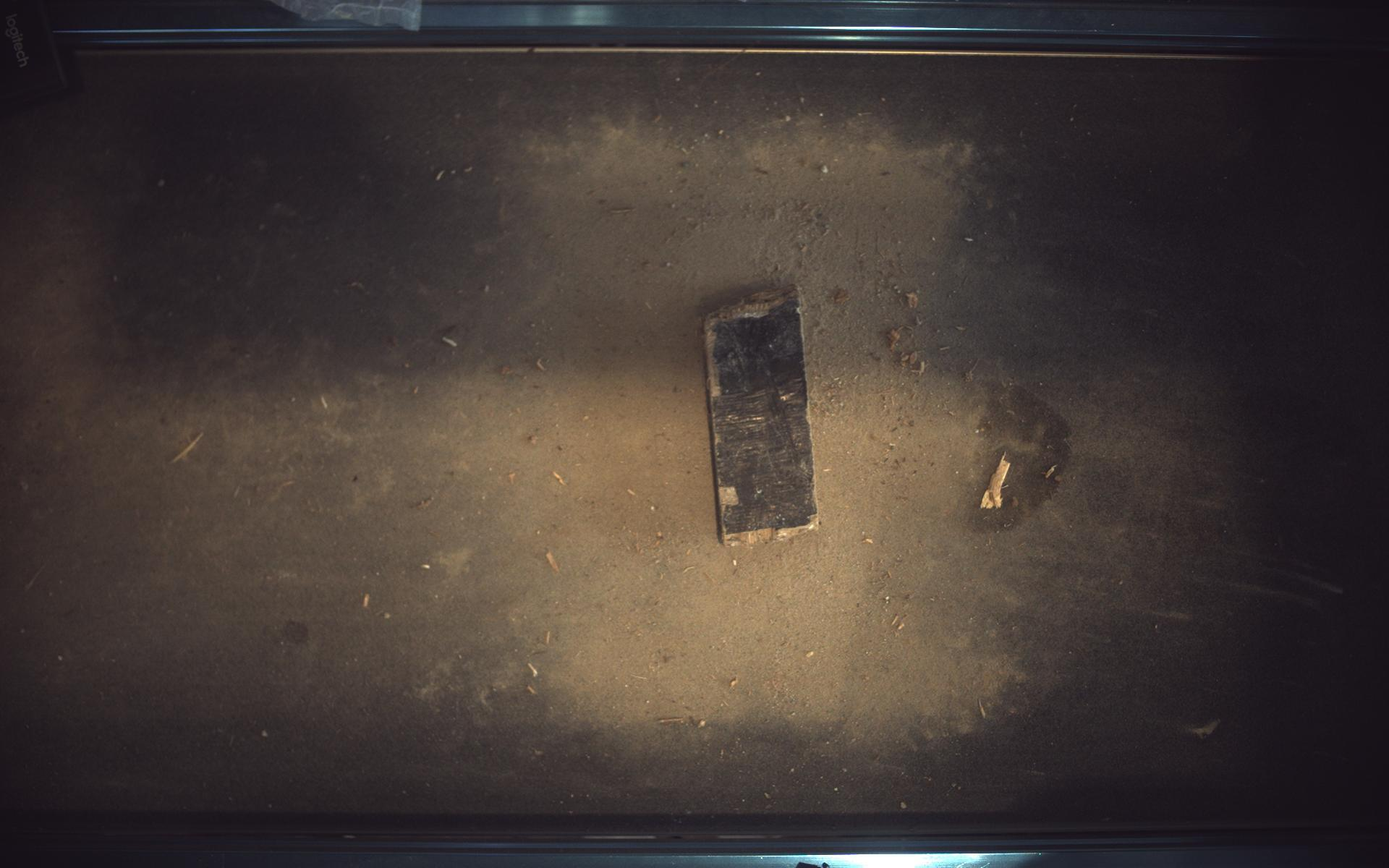wood: (705, 286, 819, 545)
